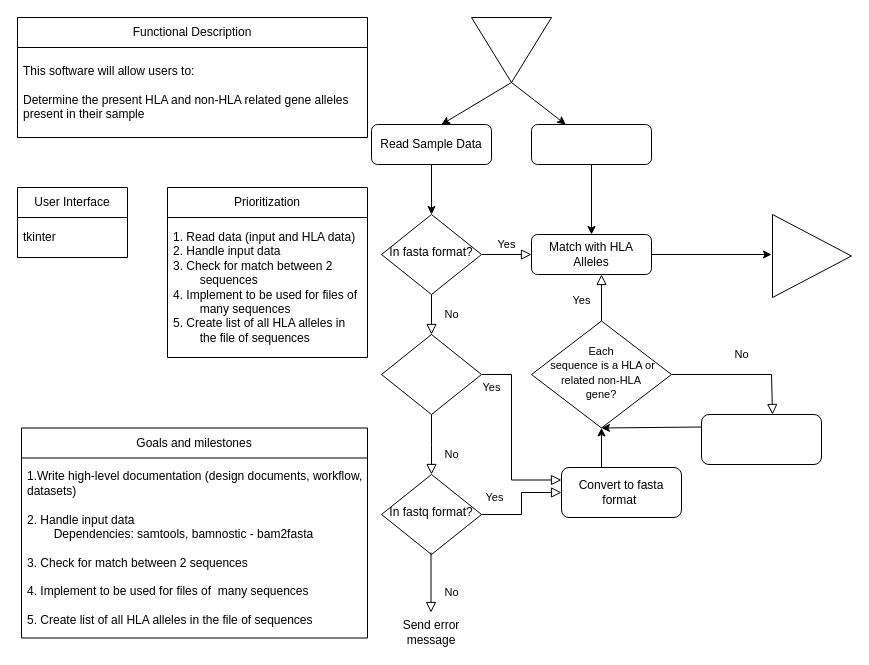
Some shapes in this 869 by 665 pixel diagram are drawn without their labels. Each missing label, with the centre of its shape:
"DONE" goes at [812,256].
"In SAM/BAM format?" goes at [431,374].
"Read HLA Allele Data fasta format" goes at [591,144].
"Skip sequence" goes at [761,439].
"START" goes at [511,49].
